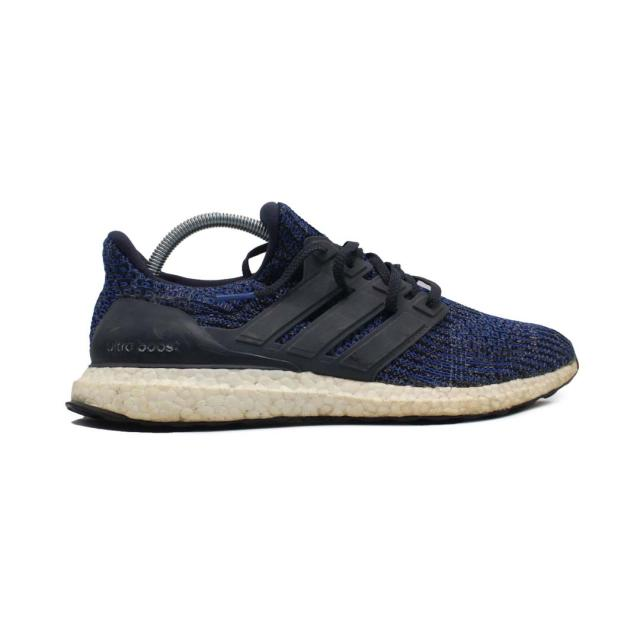heel: (63, 198, 129, 370)
midsole: (64, 362, 580, 430)
uppersole: (132, 195, 594, 380)
